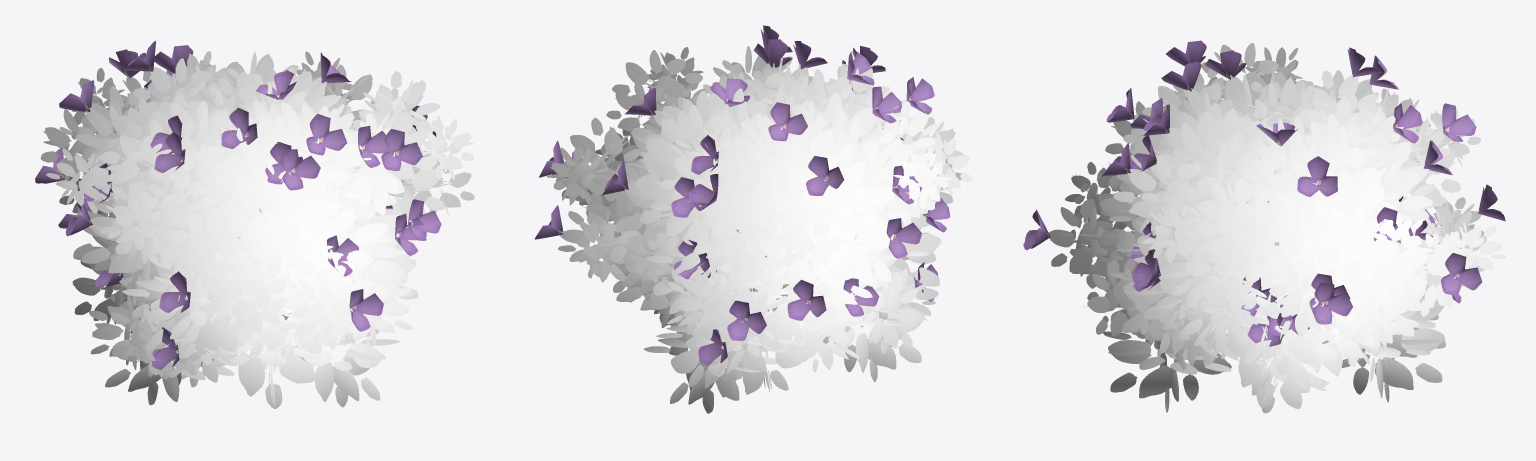
File: Bush_Common_Flowers.gltf
3 renders of one model, left to right at view 1: azimuth 30°, elevation 25°; view 2: azimuth 150°, elevation 25°; view 3: azimuth 270°, elevation 25°, orthographic. The views are drawn at different scales.
Visible parts, largest first — view 1: Bush_Common_Flowers; view 2: Bush_Common_Flowers; view 3: Bush_Common_Flowers.
Boxes of the visible parts, x1,y1,x2,y2 form: Bush_Common_Flowers: [35, 40, 474, 408]; Bush_Common_Flowers: [534, 25, 972, 413]; Bush_Common_Flowers: [1023, 40, 1505, 413].
Size of the model in its own units: 1.91 by 1.58 by 1.97.
2 materials, 2 textured.
